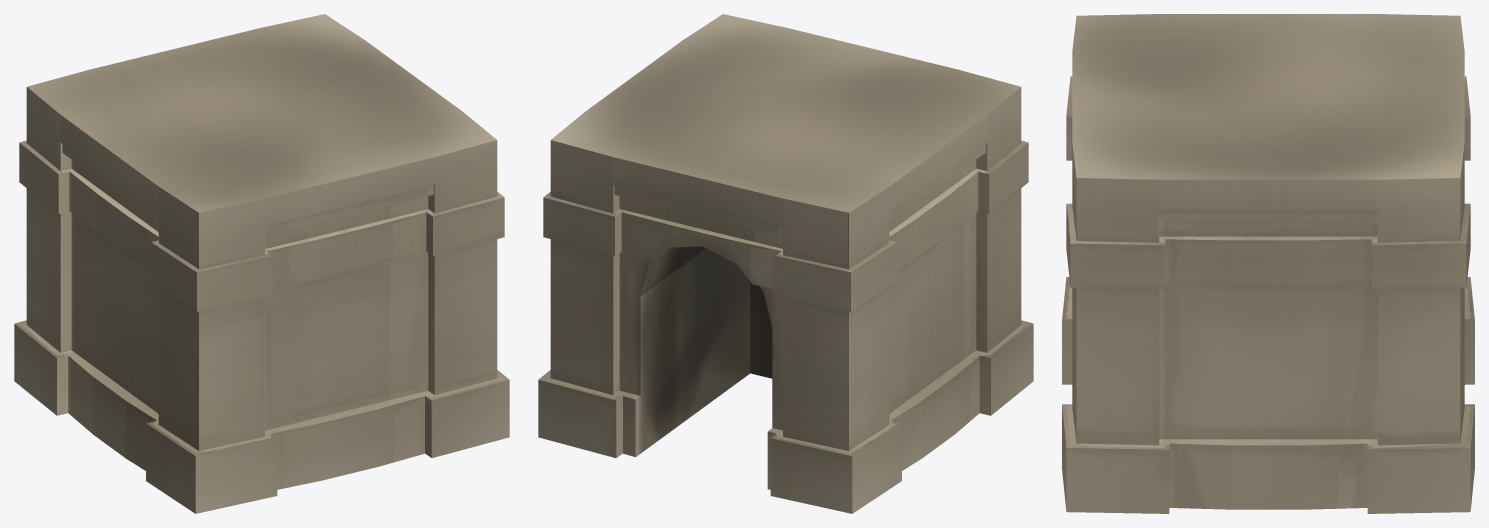
Rendered from temple.fbx.
The picture shows the model from 3 angles, left to right: view 1: azimuth 30°, elevation 25°; view 2: azimuth 150°, elevation 25°; view 3: azimuth 270°, elevation 25°; orthographic projection. The views are drawn at different scales.
Parts seen in each view (by area): view 1: temple; view 2: temple; view 3: temple.
Part boxes in pixels (x1,y1,x2,y2): temple: [14, 14, 509, 513]; temple: [538, 14, 1033, 513]; temple: [1062, 14, 1474, 513].
Size of the model in its own units: 390 by 344 by 390.
